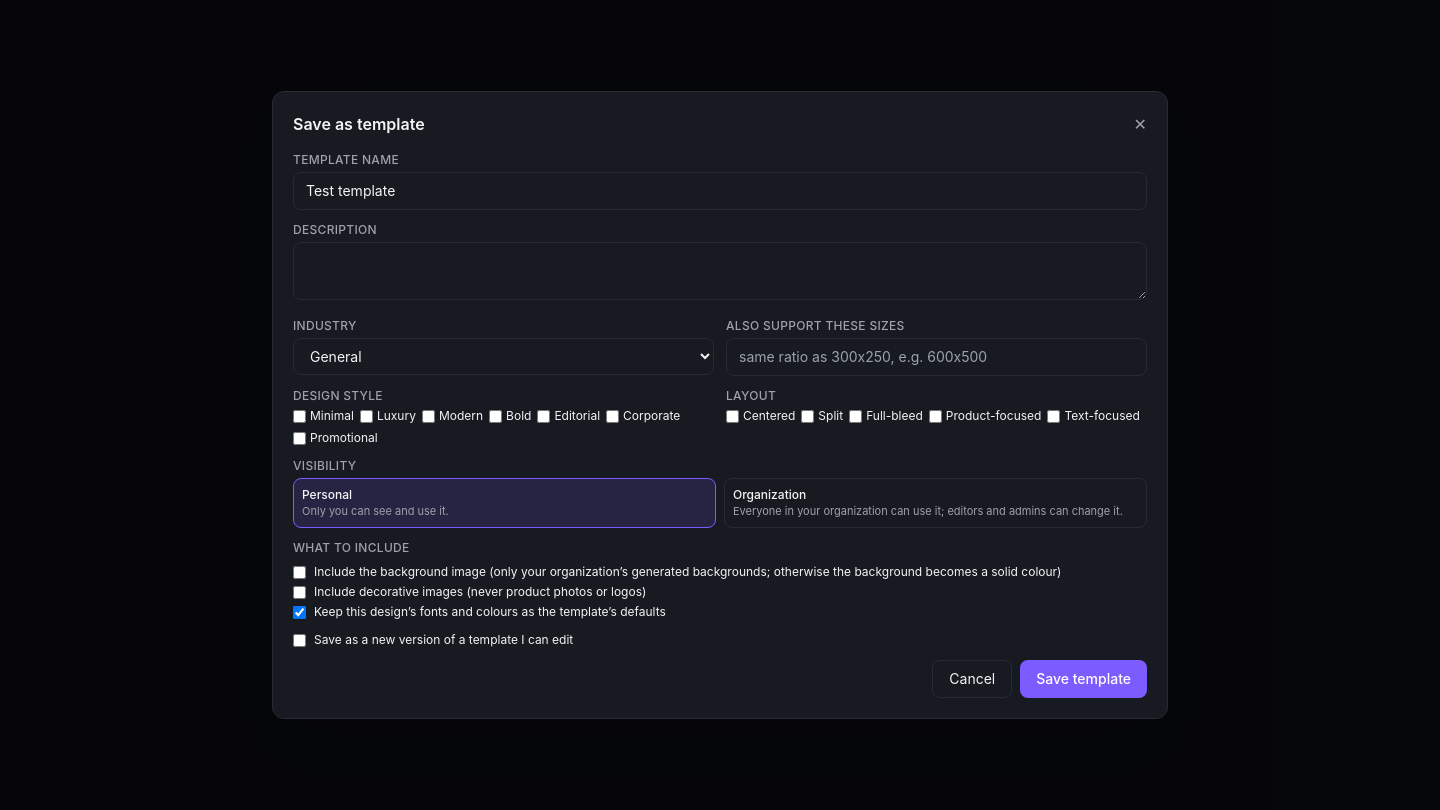
Scenario: save as template › offers saving as a new version only when the user owns an editable template
Click the checkbox named "Save as a new version of an existing template" at (300, 640), box [293,634,306,646]
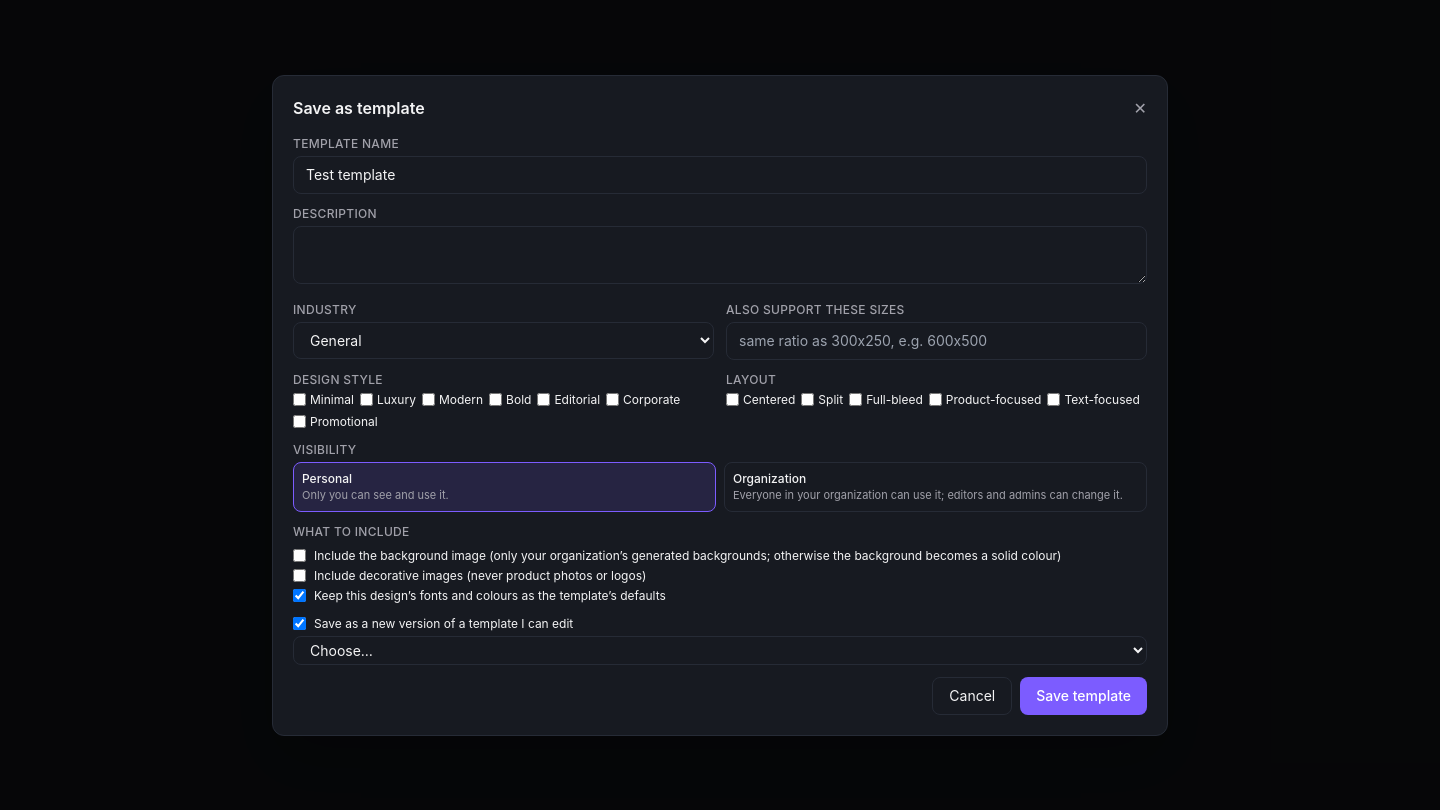
Expected: the dropdown named "Template to version" is shown, [293,636,1147,664]
